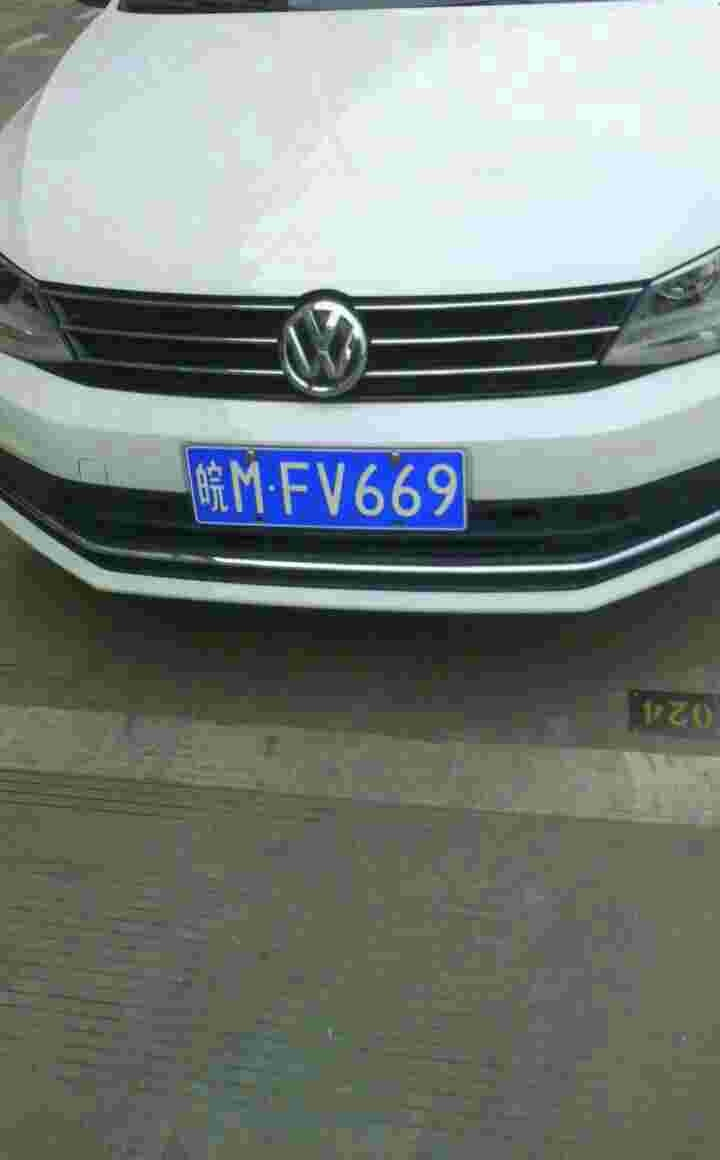license_plate: (188, 453, 472, 528)
